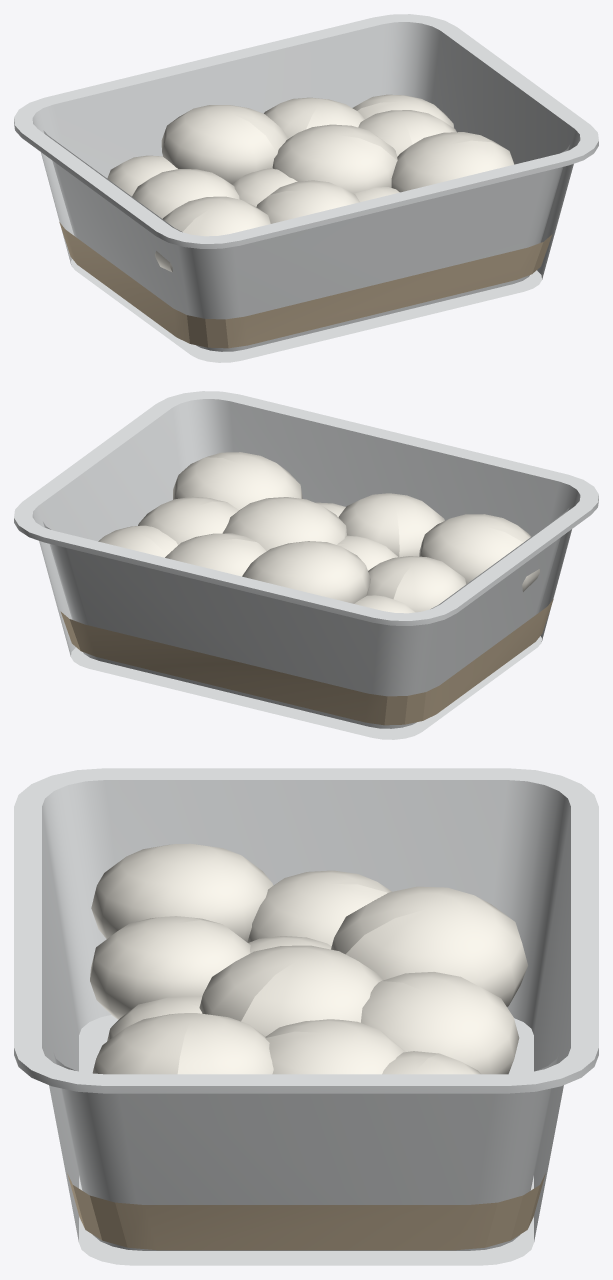
File: fresh-produce-and-groceries-button-mushrooms-punnet-c85d80b3__24384.glb
3 renders of one model, top to bottom at view 1: azimuth 30°, elevation 25°; view 2: azimuth 150°, elevation 25°; view 3: azimuth 270°, elevation 25°, orthographic. The views are drawn at different scales.
Visible parts, largest first — view 1: button-mushrooms-punnet; view 2: button-mushrooms-punnet; view 3: button-mushrooms-punnet.
Boxes of the visible parts, x1,y1,x2,y2 form: button-mushrooms-punnet: (14, 14, 598, 362); button-mushrooms-punnet: (14, 391, 598, 739); button-mushrooms-punnet: (14, 768, 598, 1265).
Bounding box in the file's own units: 0.135 × 0.042 × 0.105.
